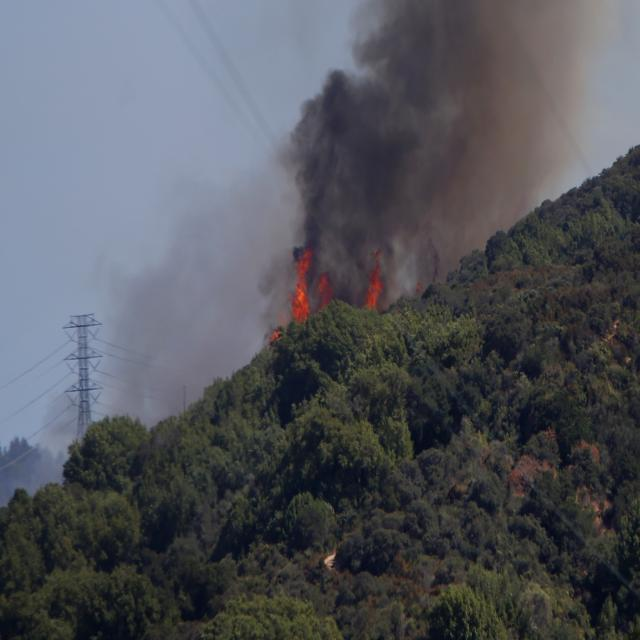Fire: (290, 241, 314, 325), (361, 239, 386, 311), (316, 268, 337, 312), (263, 326, 281, 344)
Smoke: (258, 0, 616, 322), (26, 148, 306, 500)
